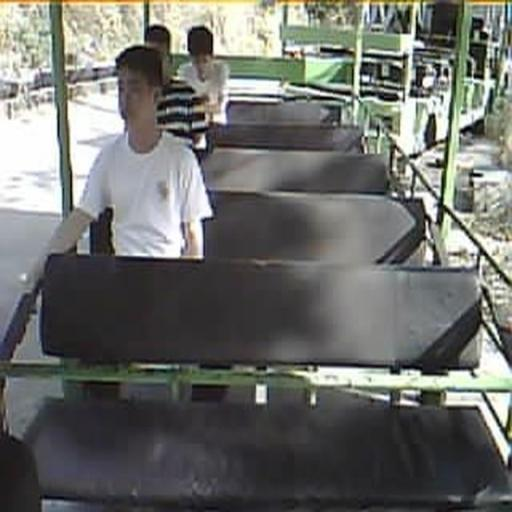persona: (47, 44, 215, 261), (144, 24, 206, 149), (176, 26, 229, 122)
